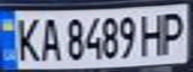4: (81, 14, 103, 61)
8: (100, 13, 121, 60), (63, 15, 84, 61)
9: (115, 11, 142, 60)
A: (36, 14, 63, 62)
H: (136, 10, 169, 57)
K: (9, 14, 42, 63)
P: (157, 8, 190, 56)
